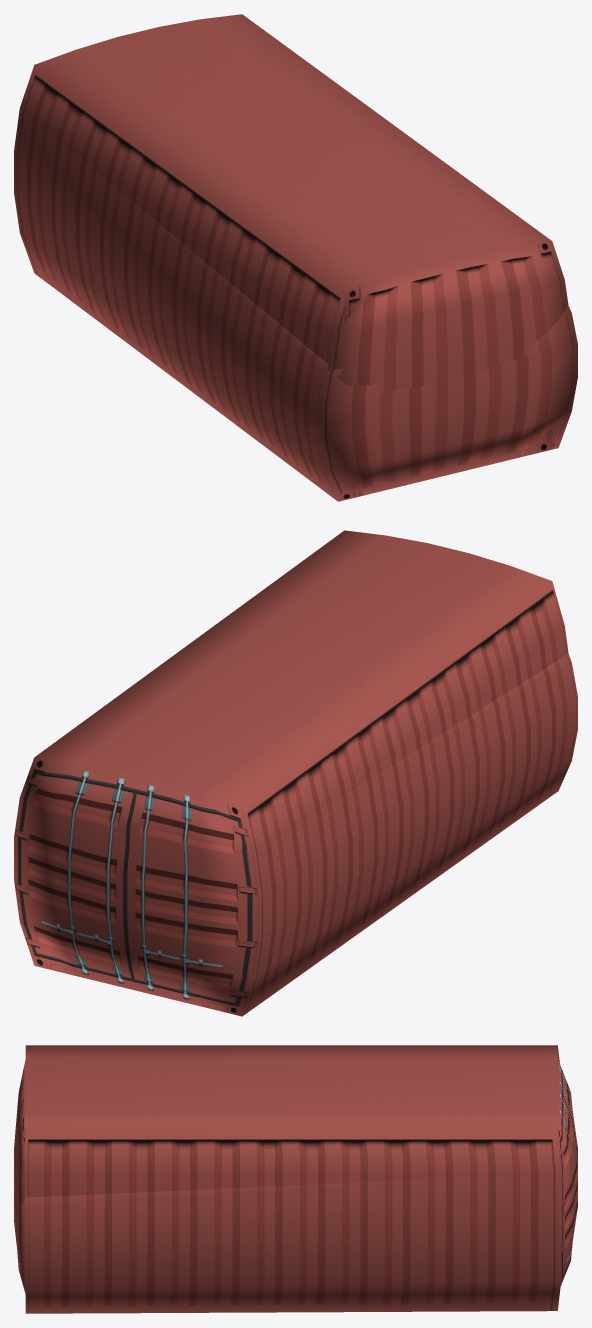
Rendered from container.fbx.
The picture shows the model from 3 angles, top to bottom: view 1: azimuth 30°, elevation 25°; view 2: azimuth 150°, elevation 25°; view 3: azimuth 270°, elevation 25°; orthographic projection. The views are drawn at different scales.
Parts seen in each view (by area): view 1: container_02_blue, container_03_blue, container_01_blue; view 2: container_02_blue, container_03_blue; view 3: container_02_blue, container_03_blue.
Boxes of the visible parts, box(x1,y1,x2,y2) form: container_02_blue: box(20, 14, 568, 496); container_03_blue: box(14, 108, 577, 501); container_01_blue: box(344, 283, 552, 495); container_02_blue: box(14, 530, 568, 1016); container_03_blue: box(52, 654, 577, 1016); container_02_blue: box(14, 1045, 577, 1285); container_03_blue: box(14, 1173, 561, 1313).
Size of the model in its own units: 171 by 136 by 376.
